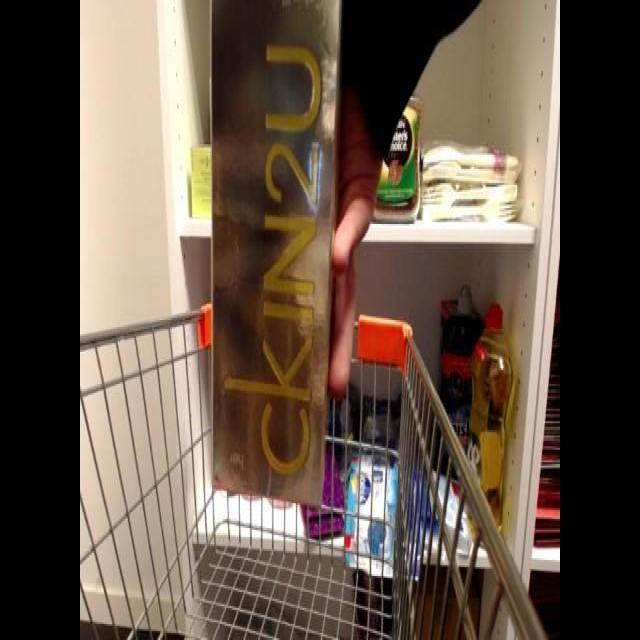Calvin Klein: (198, 6, 345, 508)
